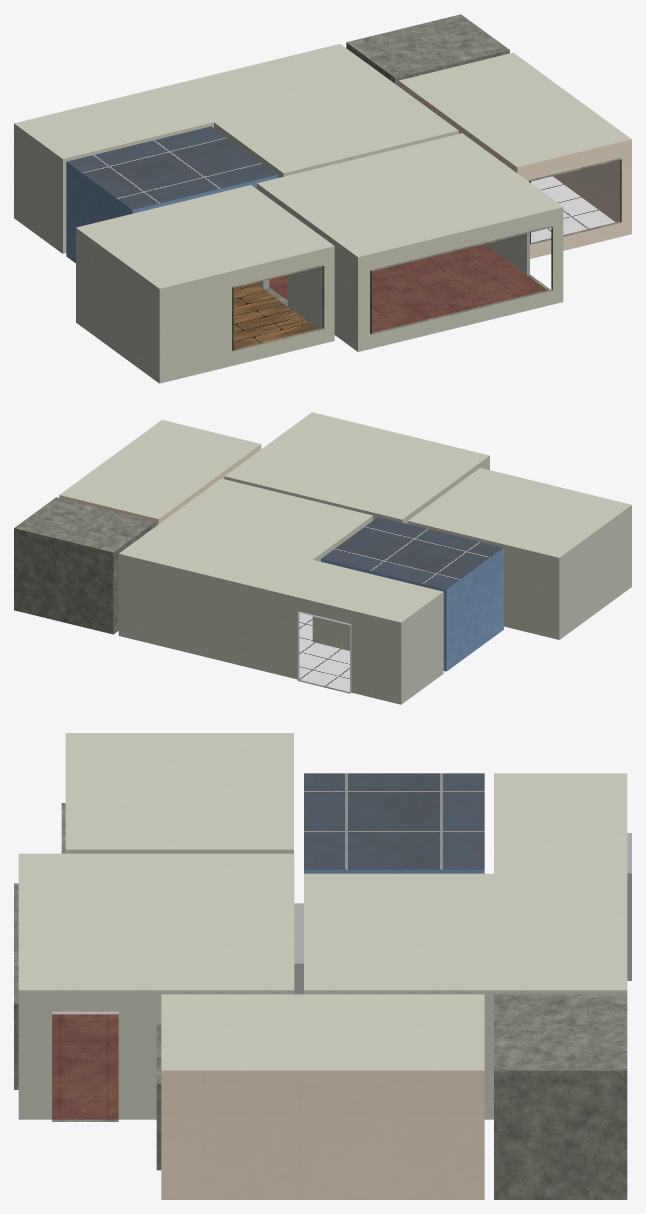
File: Inner.glb
3 views of the same model, one above another, from view 1: azimuth 30°, elevation 25°; view 2: azimuth 150°, elevation 25°; view 3: azimuth 270°, elevation 25° (orthographic). The views are drawn at different scales.
Parts seen in each view (by area): view 1: Hall2; view 2: Hall2; view 3: Hall2.
Part boxes in pixels (x1,y1,x2,y2): Hall2: (14, 14, 631, 383); Hall2: (14, 412, 631, 704); Hall2: (14, 733, 631, 1199).
Bounding box in the file's own units: 16.8 × 3 × 13.
Materials: 9 (8 with a texture image).
